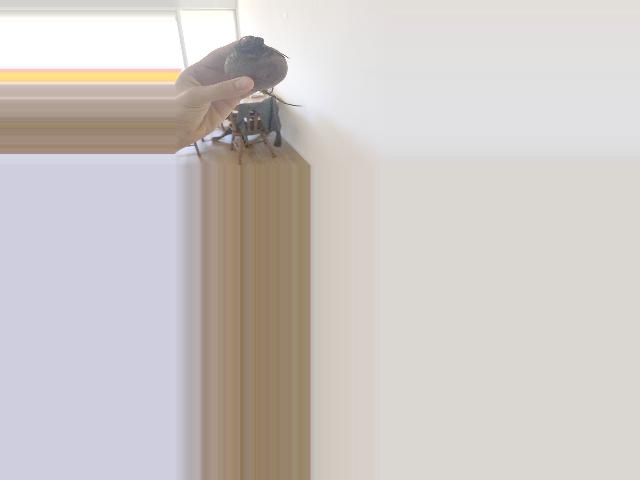beet: (224, 35, 305, 106)
